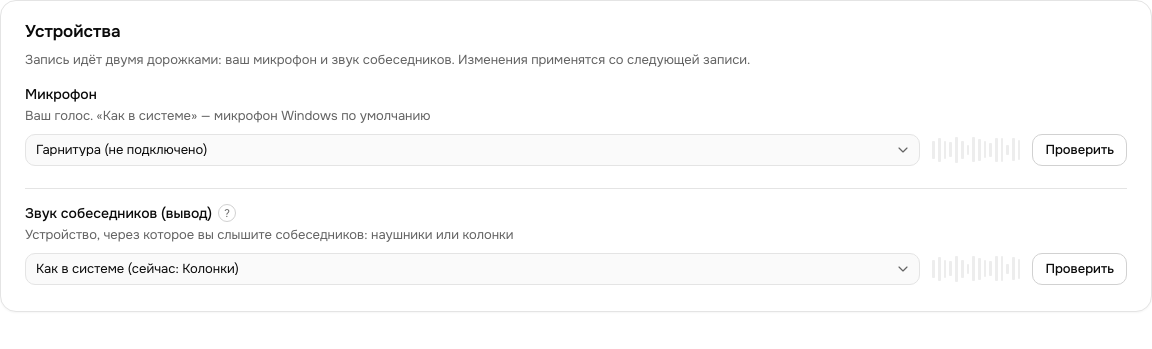
Test: выбранного нет — проверено системное, так и сказано
Click the 1st button "Проверить" at (1080, 150), box [1032, 134, 1127, 166]
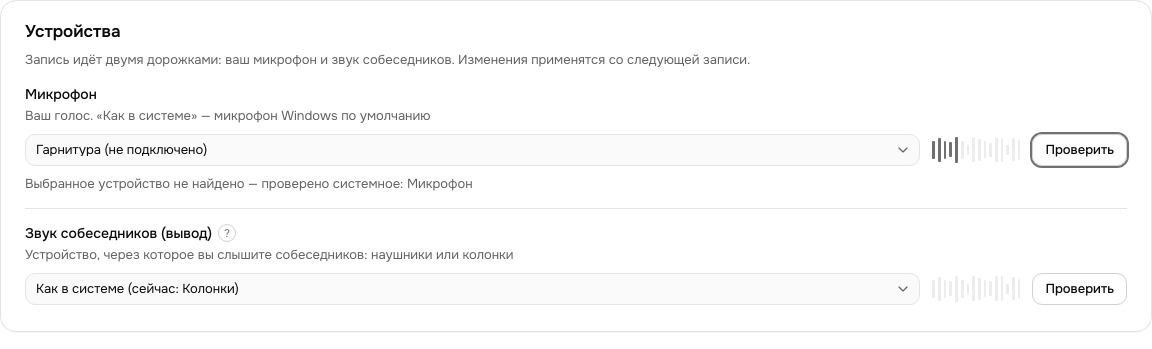
Check: the text "Выбранное устройство не найдено — проверено системное: Микрофон" is shown, box [25, 174, 473, 194]
